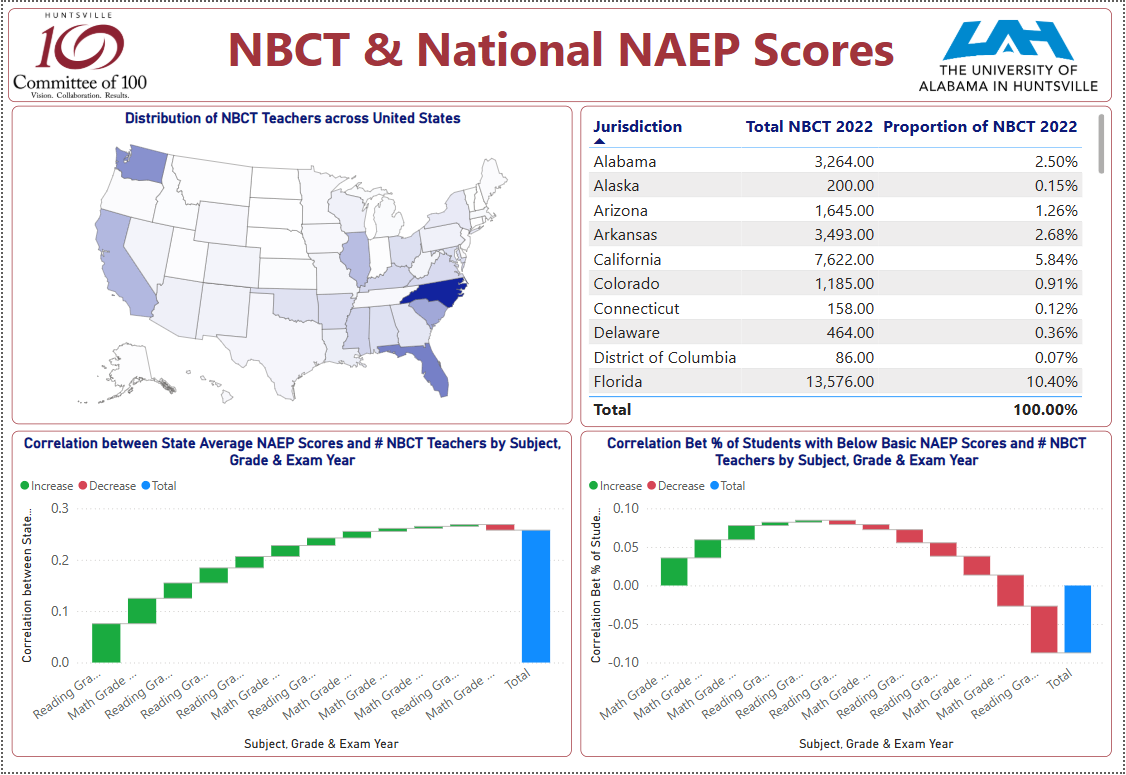

The dashboard page shown, as its layout file describes it:
{"tool":"powerbi","page":{"name":"NBCT and  NAEP Scores","canvas":[1280,880],"ordinal":2},"visuals":[{"type":"image","box":[0,7.1,175.7,107.1],"z":0,"group":"g1"},{"type":"waterfallChart","fields":{"Category":["NBCT & Scores Corr.Subject, Grade & Exam Year"],"Y":["Sum(NBCT & Scores Corr.Correlation between State Average Scores and # NBCT)"]},"box":[10,489.4,640,372.9],"z":0},{"type":"image","box":[1022.9,15.7,251.4,91.4],"z":1000,"group":"g1"},{"type":"waterfallChart","fields":{"Y":["Sum(NBCT Below Basic Corr.Correlation Bet % of Students and  # NBCT 2022)"],"Category":["NBCT Below Basic Corr.Subject, Grade & Exam Year"]},"box":[660,489.4,607.1,372.9],"z":1000},{"type":"tableEx","fields":{"Values":["State NAEP Scores.Jurisdiction","State NAEP Scores.Total NBCT 2022","Sum(State NAEP Scores.Total NBCT 2022)1"]},"box":[660,119.2,607.1,367.1],"z":2000},{"type":"shapeMap","title":"Distribution of NBCT Teachers across United States","fields":{"Category":["State NAEP Scores.Jurisdiction"],"Value":["CountNonNull(State NAEP Scores.Total NBCT 2022)"]},"box":[10.1,119.1,640.7,363.7],"z":3000},{"type":"textbox","box":[5.7,7.1,1261.4,107.1],"z":4000},{"type":"group","id":"g1","title":"Group 1","box":[0,7.1,1274.3,107.1],"z":5000}]}

Visuals, with their boxes in screenshot pixels (x1, y1, x2, y2), scaled from the page's 1280x880 canvas onto the 1126x775 screenshot:
image: pyautogui.locateOnScreen(0, 6, 155, 101)
waterfallChart - NBCT & Scores Corr.Subject, Grade & Exam Year x Sum(NBCT & Scores Corr.Correlation between State Average Scores and # NBCT): pyautogui.locateOnScreen(9, 431, 572, 759)
image: pyautogui.locateOnScreen(900, 14, 1121, 94)
waterfallChart - Sum(NBCT Below Basic Corr.Correlation Bet % of Students and  # NBCT 2022) x NBCT Below Basic Corr.Subject, Grade & Exam Year: pyautogui.locateOnScreen(581, 431, 1115, 759)
tableEx - State NAEP Scores.Jurisdiction x State NAEP Scores.Total NBCT 2022: pyautogui.locateOnScreen(581, 105, 1115, 428)
"Distribution of NBCT Teachers across United States" shapeMap: pyautogui.locateOnScreen(9, 105, 573, 425)
textbox: pyautogui.locateOnScreen(5, 6, 1115, 101)
"Group 1" group: pyautogui.locateOnScreen(0, 6, 1121, 101)
